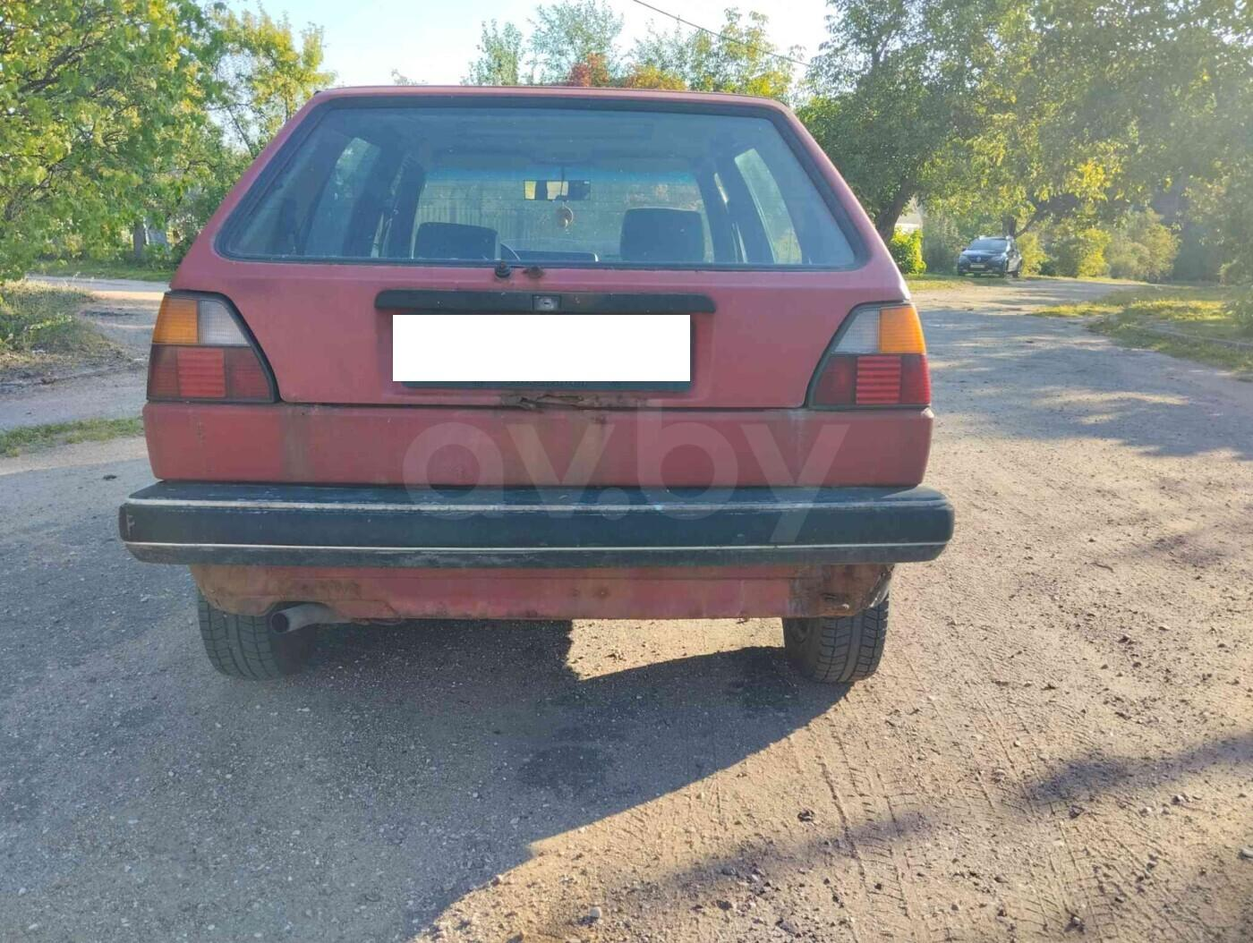Golf_1983-1992: (116, 84, 941, 706)
